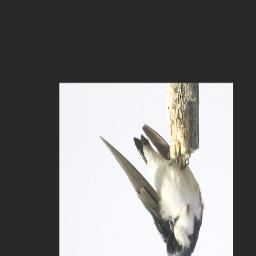Swallow: (99, 123, 205, 256)
